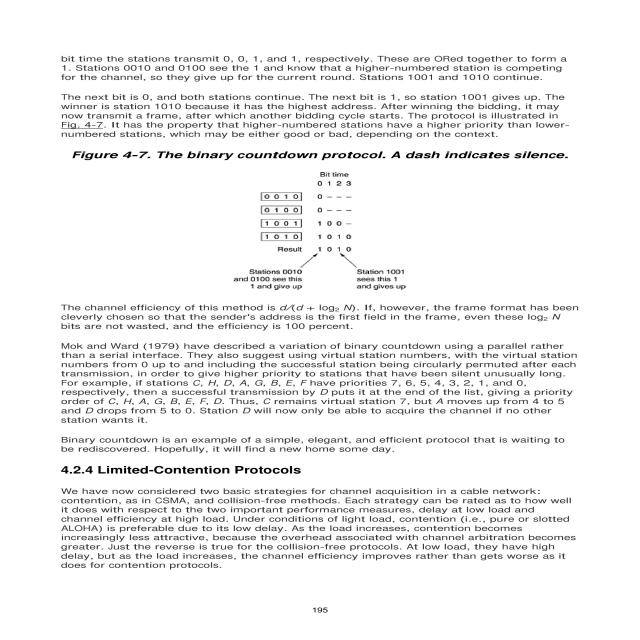diagram: (66, 145, 600, 295)
